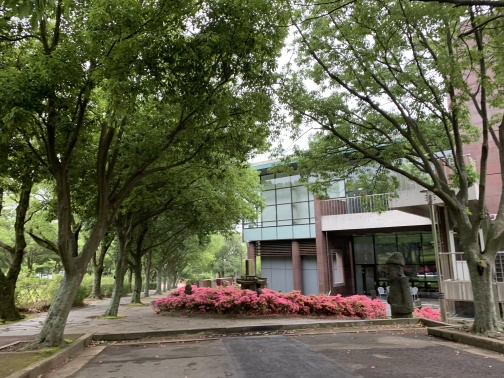Museum: (239, 143, 496, 329)
